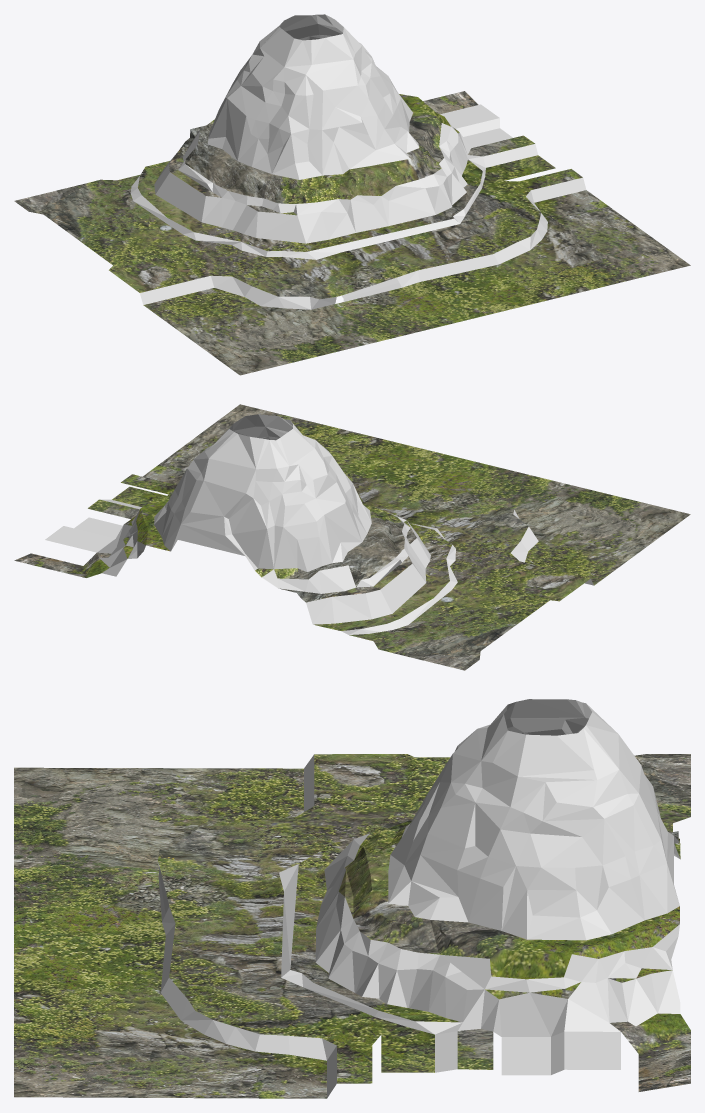
File: Mountain.fbx
3 views of the same model, one above another, from view 1: azimuth 30°, elevation 25°; view 2: azimuth 150°, elevation 25°; view 3: azimuth 270°, elevation 25° (orthographic). The views are drawn at different scales.
Parts seen in each view (by area): view 1: Mountain; view 2: Mountain; view 3: Mountain.
Part boxes in pixels (left/top/right/bottom): Mountain: left=14, top=14, right=690, bottom=375; Mountain: left=14, top=404, right=690, bottom=670; Mountain: left=14, top=699, right=690, bottom=1098.
Bounding box in the file's own units: 14254 × 4812 × 12367.
Materials: 3 (1 with a texture image).
